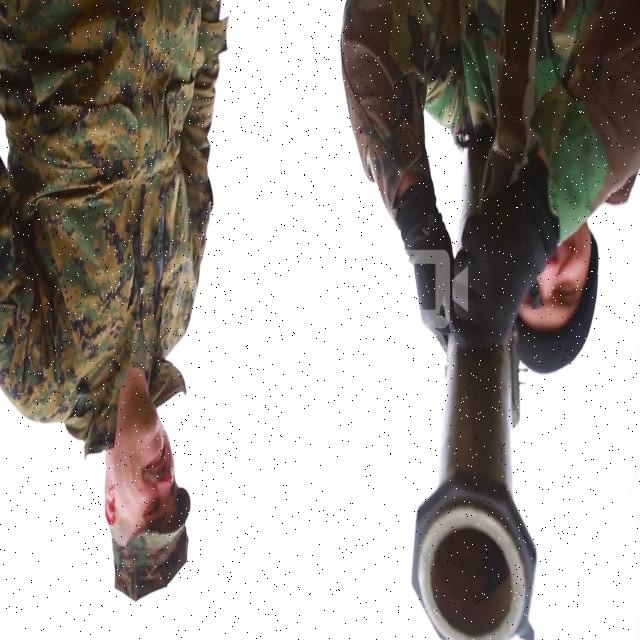bazooka: (403, 116, 537, 640)
